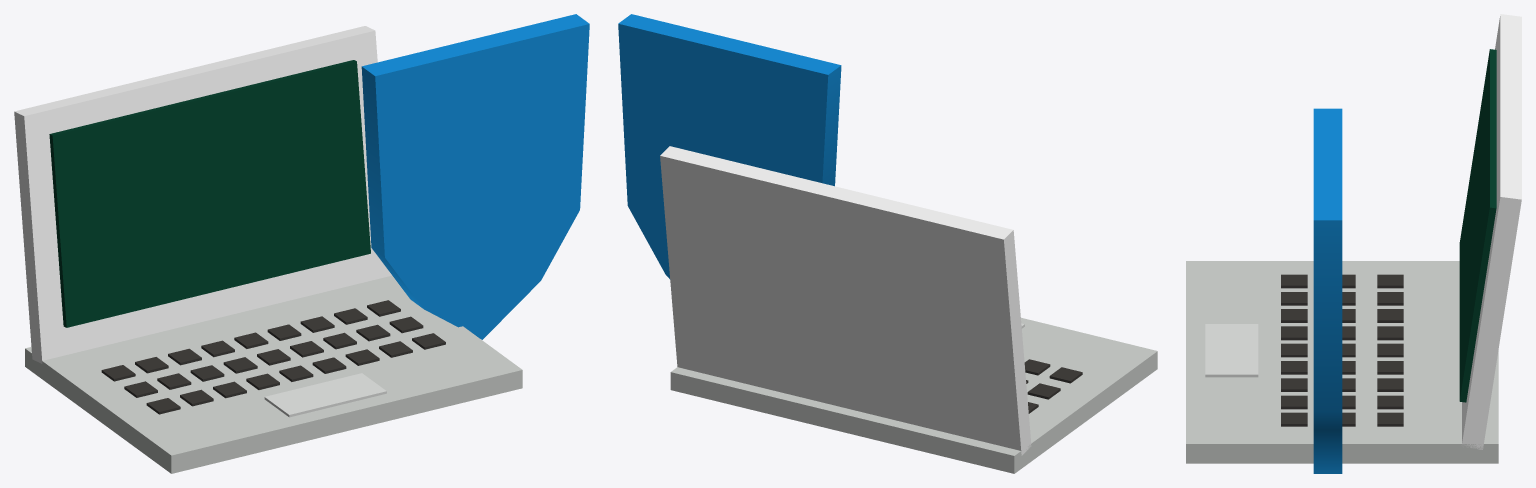
File: IP_penetration_testing.glb
3 renders of one model, left to right at view 1: azimuth 30°, elevation 25°; view 2: azimuth 150°, elevation 25°; view 3: azimuth 270°, elevation 25°, orthographic. The views are drawn at different scales.
Parts seen in each view (by area): view 1: instance_darkgreen, instance_blue, instance_stone, instance_white, instance_ink, instance_grey; view 2: instance_white, instance_blue, instance_stone, instance_ink; view 3: instance_stone, instance_blue, instance_white, instance_ink, instance_darkgreen, instance_grey.
Boxes of the visible parts, <box> form: instance_darkgreen: <box>49,60,370,327</box>; instance_blue: <box>361,14,589,339</box>; instance_stone: <box>25,275,522,473</box>; instance_white: <box>14,26,391,363</box>; instance_ink: <box>101,300,445,414</box>; instance_grey: <box>264,373,386,417</box>; instance_white: <box>660,146,1031,455</box>; instance_blue: <box>618,14,841,279</box>; instance_stone: <box>670,317,1157,473</box>; instance_ink: <box>1024,359,1082,413</box>; instance_stone: <box>1186,261,1498,463</box>; instance_blue: <box>1313,108,1342,473</box>; instance_white: <box>1462,14,1521,449</box>; instance_ink: <box>1281,274,1403,426</box>; instance_darkgreen: <box>1459,49,1496,402</box>; instance_grey: <box>1205,324,1258,377</box>.
Bounding box in the file's own units: 1.23 × 0.71 × 0.6982.
